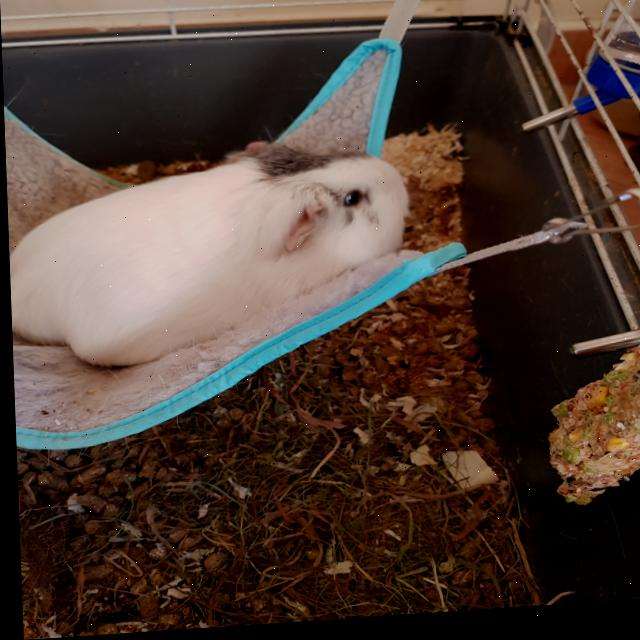guinea pig: (5, 136, 414, 376)
